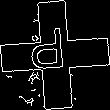P_S: (34, 28, 76, 82)
